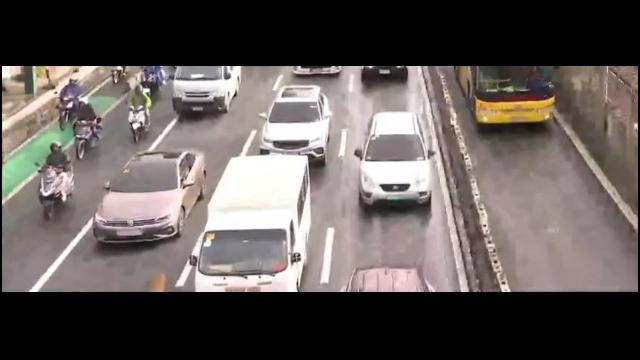bus: (448, 67, 562, 131)
car: (92, 149, 208, 243), (353, 111, 435, 210), (262, 84, 332, 161)
motorcycle: (34, 140, 75, 222), (72, 102, 102, 159), (54, 79, 82, 129), (127, 84, 150, 141), (137, 66, 167, 93)
van: (170, 65, 242, 118)
